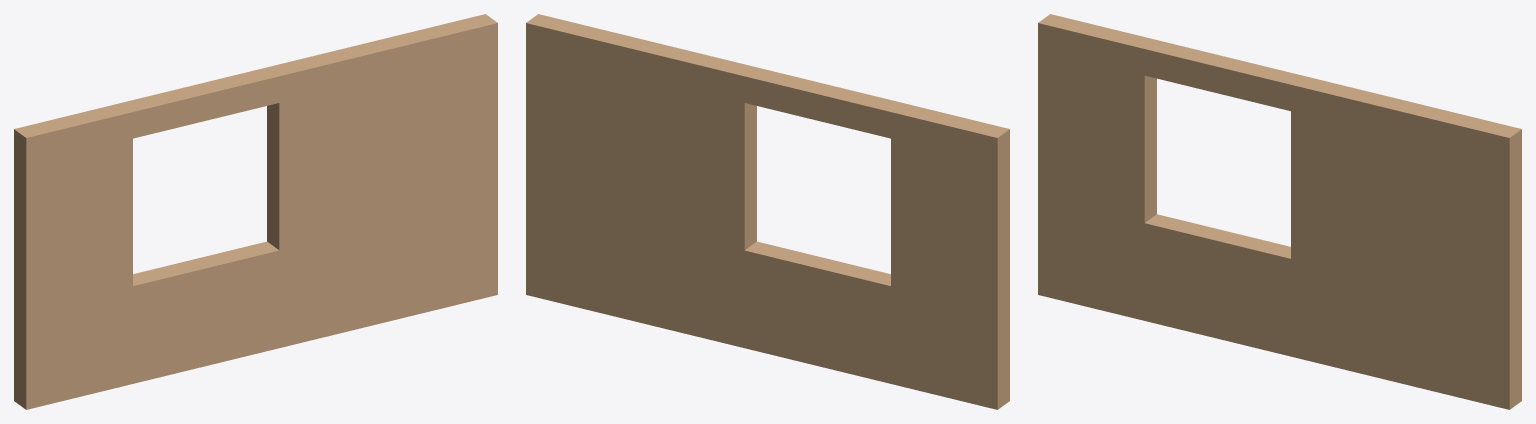
Rendered from Wall 2.FBX.
The picture shows the model from 3 angles, left to right: view 1: azimuth 30°, elevation 25°; view 2: azimuth 150°, elevation 25°; view 3: azimuth 330°, elevation 25°; orthographic projection.
Parts seen in each view (by area): view 1: Wall 2; view 2: Wall 2; view 3: Wall 2.
Part boxes in pixels (x1=…): Wall 2: x1=14, y1=14, x2=497, y2=409; Wall 2: x1=526, y1=14, x2=1009, y2=409; Wall 2: x1=1038, y1=14, x2=1521, y2=409.
Size of the model in its own units: 474 by 261 by 21.44.
